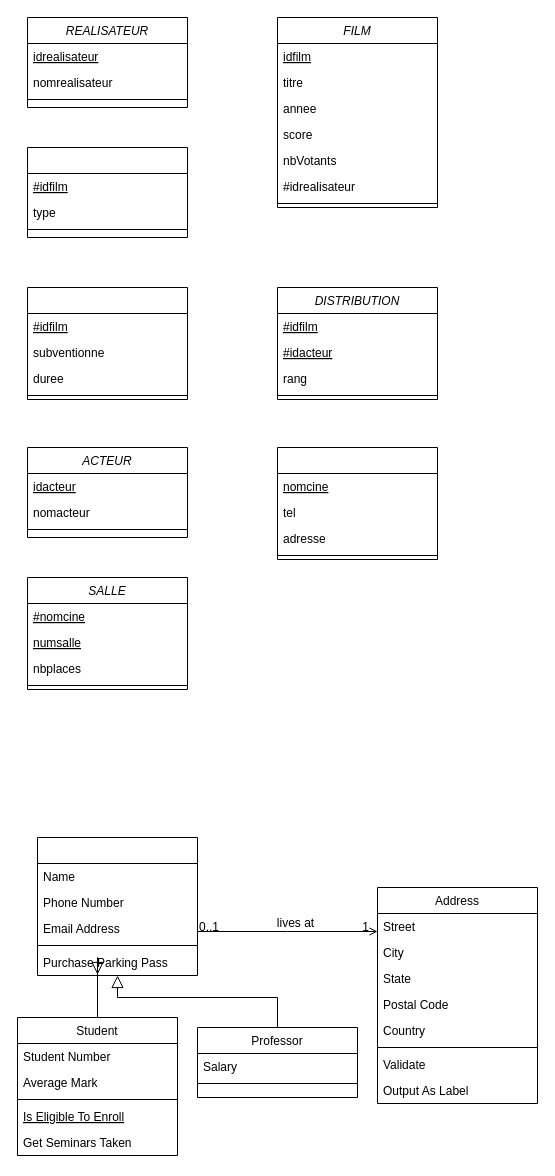
This 555x1176 diagram has some shape labels left out. Here are the shapes that lost their labels. From the top down, the box of each, then its label:
(26, 146, 188, 238): DOCUMENTAIRE
(26, 286, 188, 400): COURTMETRAGE
(276, 446, 438, 560): CINEMA
(36, 836, 198, 976): Person
